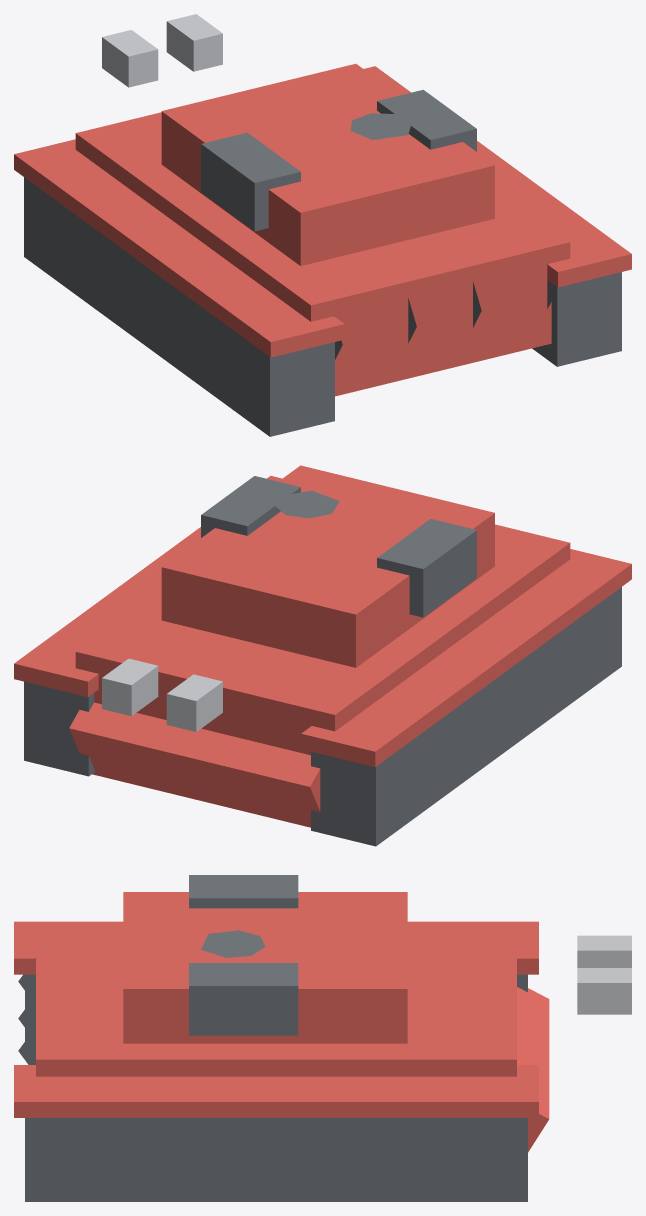
Rendered from test_tank_decimated.glb.
The picture shows the model from 3 angles, top to bottom: view 1: azimuth 30°, elevation 25°; view 2: azimuth 150°, elevation 25°; view 3: azimuth 270°, elevation 25°; orthographic projection. The views are drawn at different scales.
Parts seen in each view (by area): view 1: Soviet_Tank; view 2: Soviet_Tank; view 3: Soviet_Tank.
Boxes of the visible parts, bbox=[...] form: Soviet_Tank: bbox=[14, 14, 631, 436]; Soviet_Tank: bbox=[14, 465, 631, 846]; Soviet_Tank: bbox=[14, 875, 631, 1201].
Bounding box in the file's own units: 3.9 × 1.95 × 5.65.
